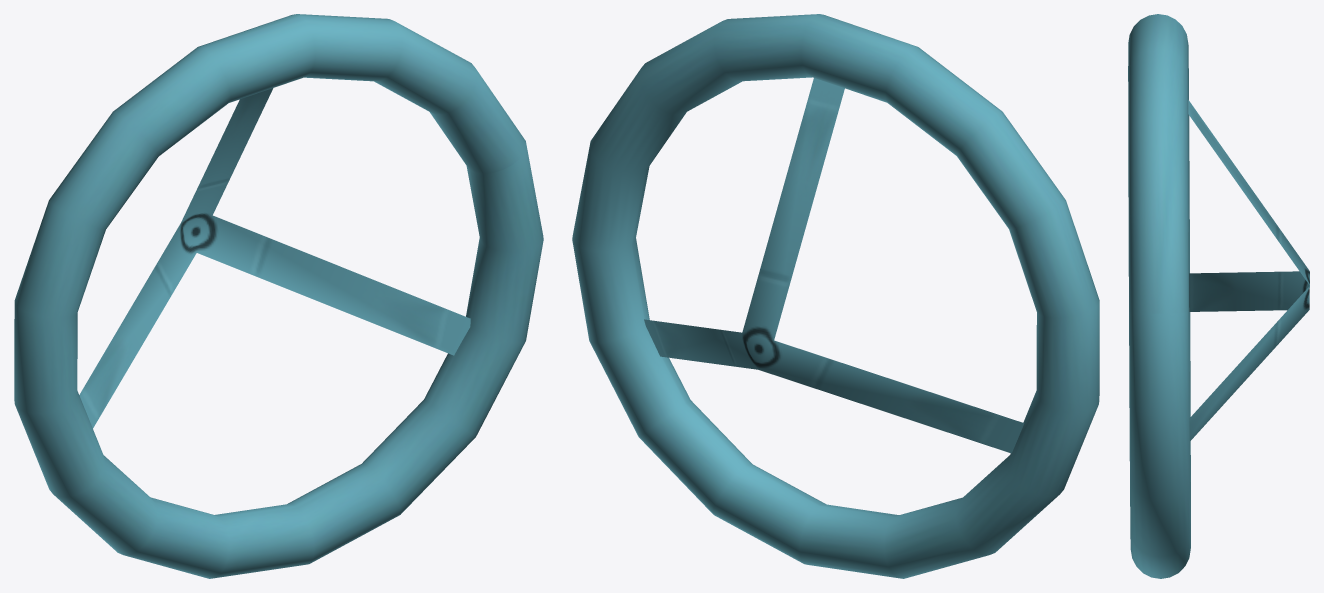
Rendered from door valve.fbx.
The picture shows the model from 3 angles, left to right: view 1: azimuth 30°, elevation 25°; view 2: azimuth 150°, elevation 25°; view 3: azimuth 270°, elevation 25°; orthographic projection. The views are drawn at different scales.
Visible parts, largest first — view 1: pTorus2; view 2: pTorus2; view 3: pTorus2.
Part boxes in pixels (box(x1,y1,x2,y2)): pTorus2: box(14, 14, 543, 578); pTorus2: box(572, 14, 1099, 578); pTorus2: box(1128, 14, 1309, 578).
Size of the model in its own units: 5.11 by 5.13 by 1.65.
Materials: 2 (2 with a texture image).
